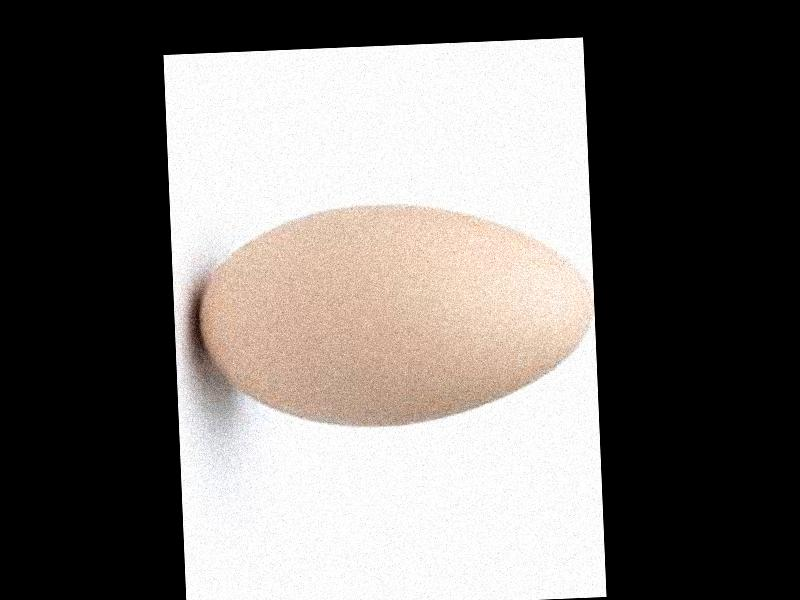Eggs: (189, 196, 596, 433)
